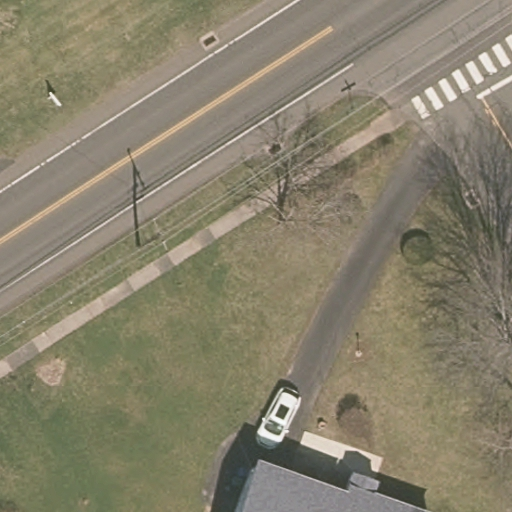DT: (150, 216, 169, 250)
